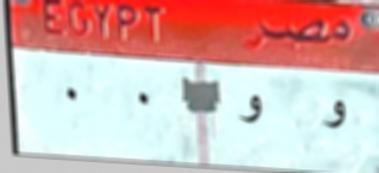0: (134, 80, 166, 118), (59, 82, 86, 112)
waw: (229, 84, 276, 128), (317, 91, 350, 136)
